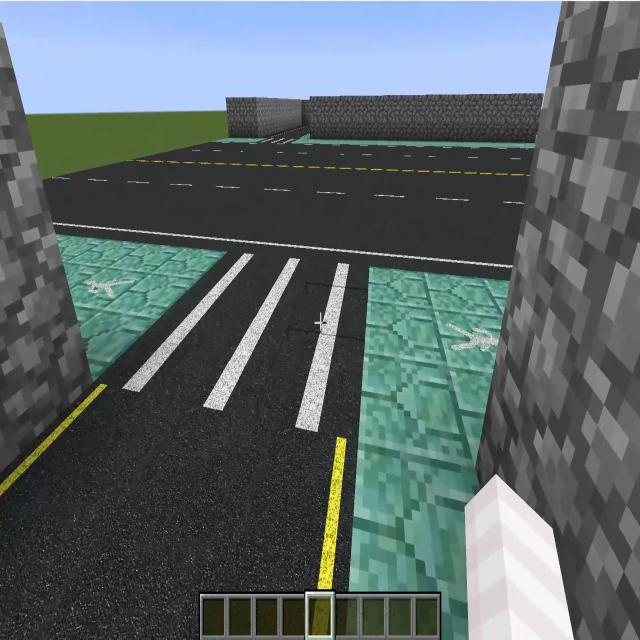crosswalk: (105, 236, 370, 440), (258, 137, 301, 144)
road: (0, 380, 344, 636), (51, 141, 535, 273), (270, 125, 310, 137)
sidewalk: (350, 268, 508, 639), (58, 235, 223, 379), (293, 133, 535, 149), (213, 137, 266, 143)
